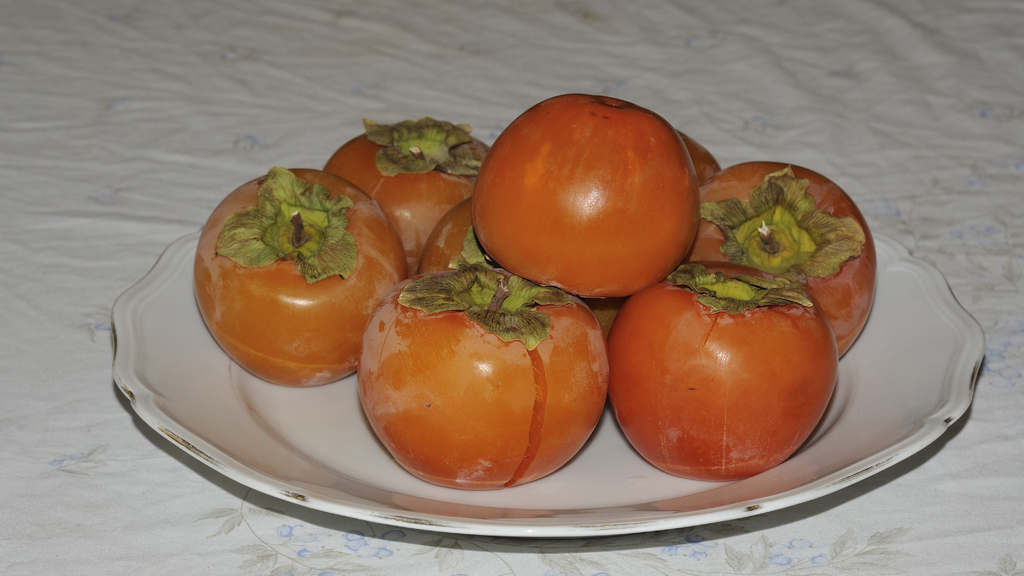Tomato: (190, 108, 880, 488), (472, 90, 707, 298)
